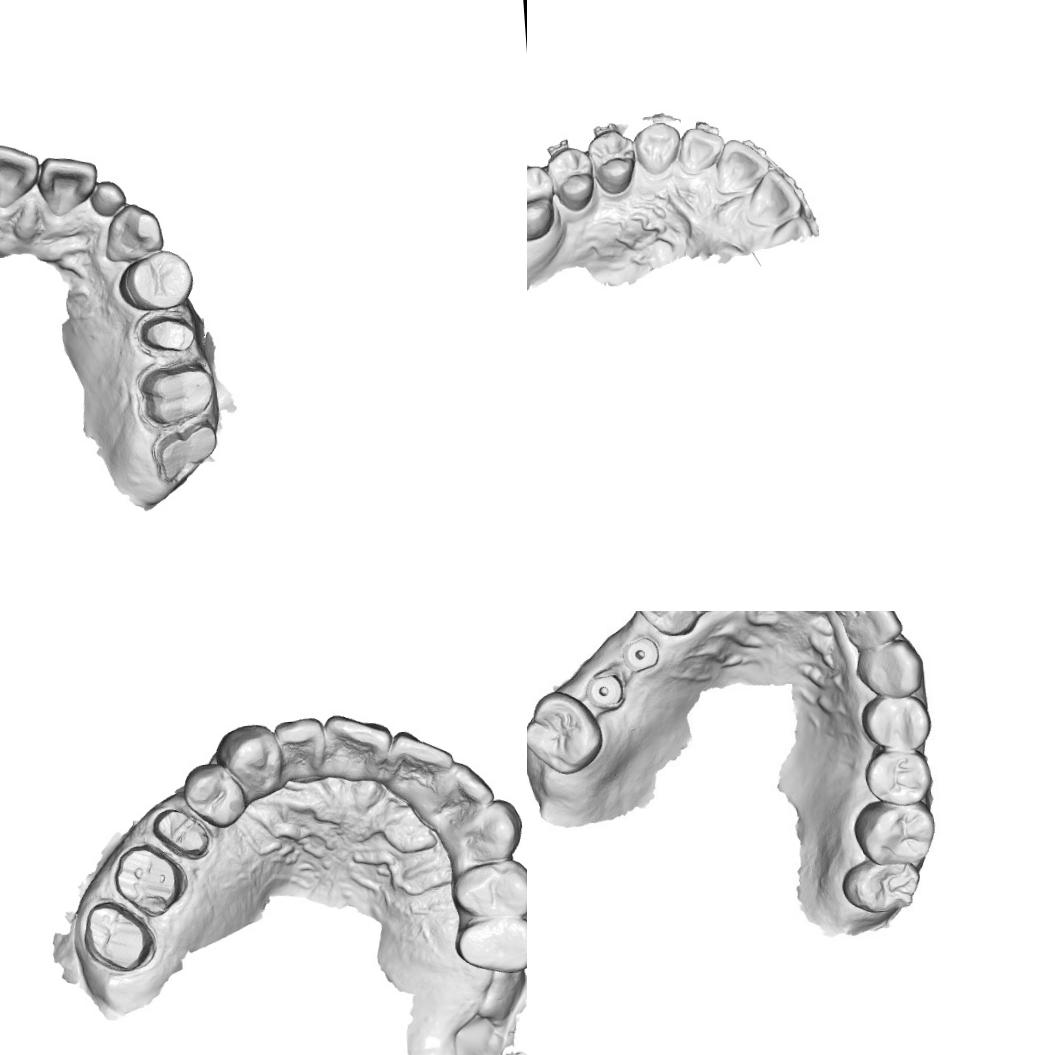canine: (214, 720, 283, 795), (856, 634, 922, 701), (100, 200, 166, 263), (464, 793, 523, 860), (628, 118, 684, 178), (633, 611, 699, 639)
crown: (108, 838, 190, 921), (134, 356, 216, 432), (81, 896, 156, 978), (148, 804, 212, 861), (132, 306, 198, 359)
implant: (584, 665, 630, 713), (620, 631, 663, 674)
incisor: (320, 708, 394, 774), (34, 152, 101, 218), (386, 725, 456, 788), (743, 168, 802, 230), (269, 716, 328, 774), (713, 135, 773, 192), (0, 138, 41, 209), (676, 124, 727, 177), (442, 760, 498, 808), (847, 611, 903, 647), (88, 178, 128, 218)
molar: (527, 683, 605, 779), (850, 796, 936, 866), (841, 854, 922, 918), (527, 161, 558, 244)
premolar: (115, 246, 195, 312), (449, 857, 527, 920), (182, 759, 249, 830), (452, 915, 527, 978), (859, 691, 932, 754), (860, 743, 933, 806), (584, 126, 640, 196), (543, 144, 596, 214)
